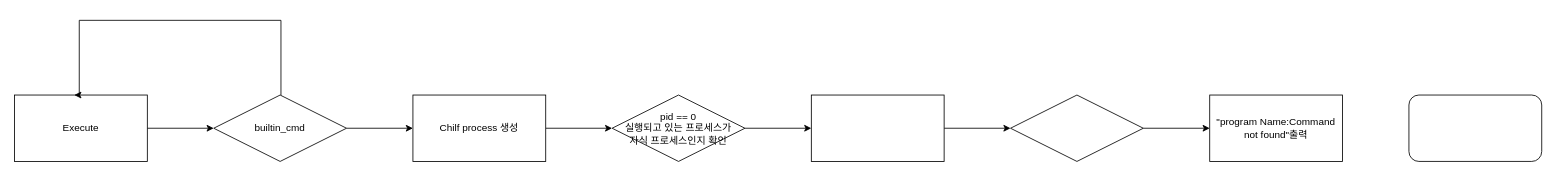
This 1556x176 diagram has some shape labels left out. The shapes that lost their labels are listed below. From the top down, each one's centre as x and y in pixels, then its label:
At point 877,127: "execve실행: 다른프로그램을 실행& 자신을 종료".
At point 1076,127: "execve( ... ) < 0: 실행 실패".
At point 1475,127: "Exit".
